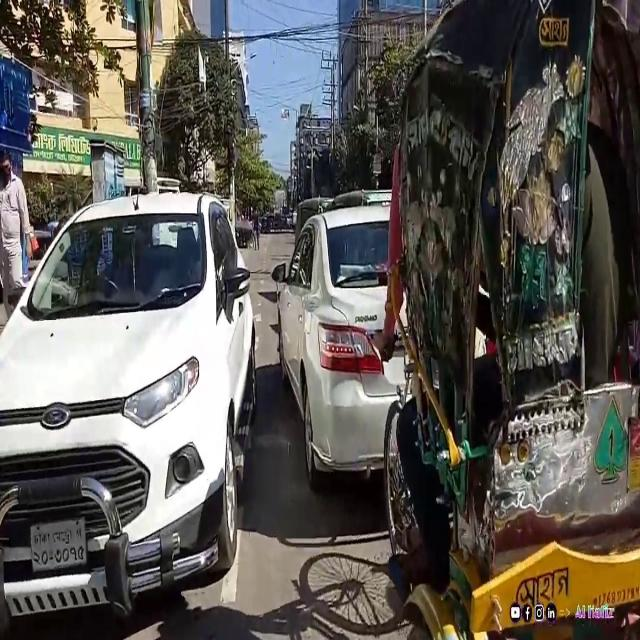white: (0, 189, 263, 631), (279, 204, 469, 515)
